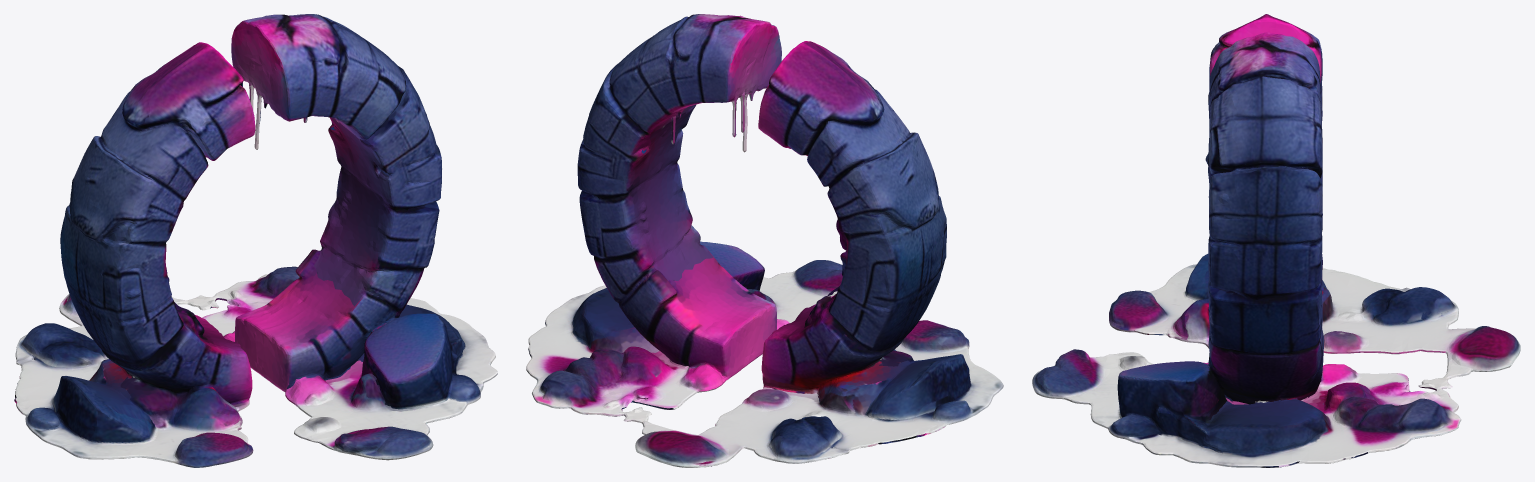
Rendered from broken-ring-generated-2026-05-17T21-20-11-613Z.glb.
3 renders of one model, left to right at view 1: azimuth 30°, elevation 25°; view 2: azimuth 150°, elevation 25°; view 3: azimuth 270°, elevation 25°, orthographic. The views are drawn at different scales.
Visible parts, largest first — view 1: temp_mesh.ply; view 2: temp_mesh.ply; view 3: temp_mesh.ply.
Part boxes in pixels (x1,y1,x2,y2): temp_mesh.ply: (14, 14, 497, 467); temp_mesh.ply: (526, 14, 1003, 467); temp_mesh.ply: (1032, 14, 1520, 467).
Size of the model in its own units: 1.93 by 1.47 by 1.93.
1 material, 1 textured.
